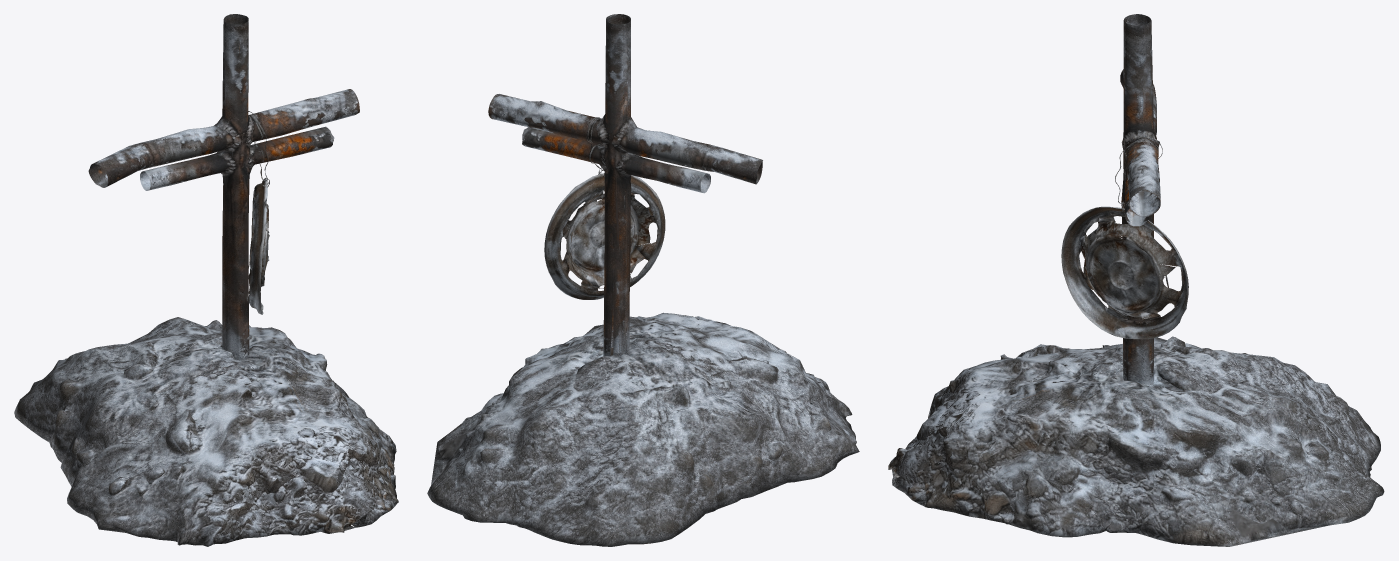
Rendered from road_grave.glb.
The picture shows the model from 3 angles, left to right: view 1: azimuth 30°, elevation 25°; view 2: azimuth 150°, elevation 25°; view 3: azimuth 270°, elevation 25°; orthographic projection. The views are drawn at different scales.
Bounding box in the file's own units: 0.7563 × 0.9395 × 0.9272.
Materials: 1 (1 with a texture image).
